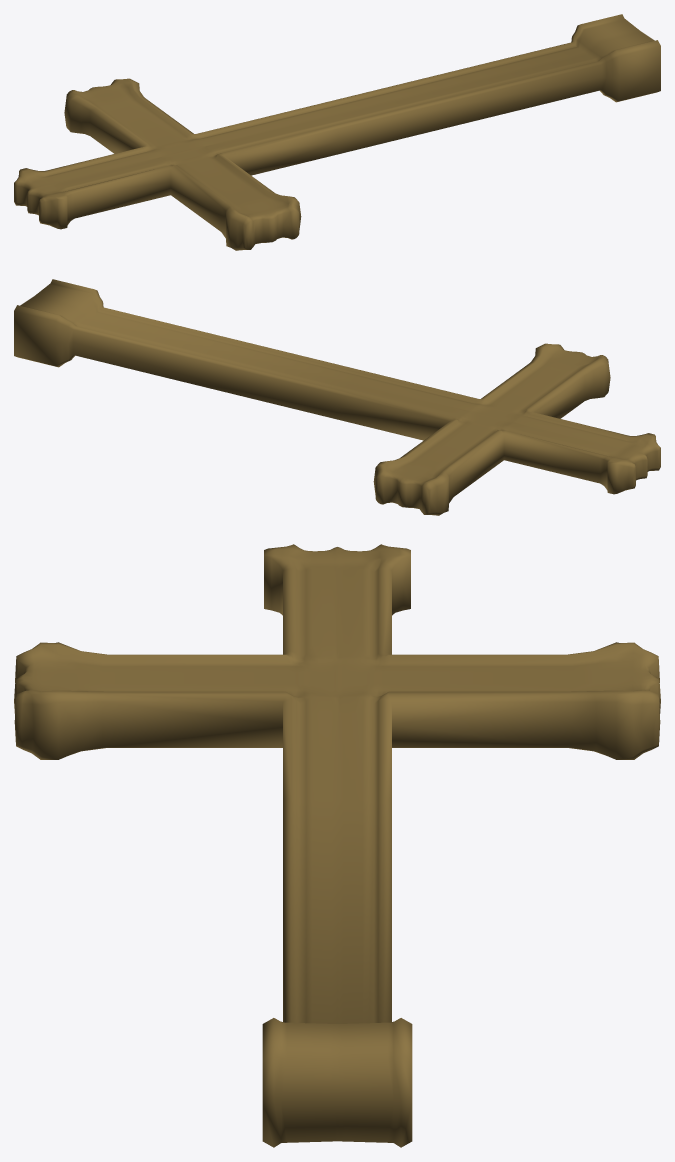
Rendered from metallicCrossNONTEXTUREfbx.fbx.
3 renders of one model, top to bottom at view 1: azimuth 30°, elevation 25°; view 2: azimuth 150°, elevation 25°; view 3: azimuth 270°, elevation 25°, orthographic. The views are drawn at different scales.
Parts seen in each view (by area): view 1: Cube; view 2: Cube; view 3: Cube.
Boxes of the visible parts, left/top/right/bottom form: Cube: left=14, top=14, right=660, bottom=250; Cube: left=14, top=279, right=660, bottom=515; Cube: left=14, top=544, right=660, bottom=1147.
Size of the model in its own units: 470 by 38.22 by 240.
